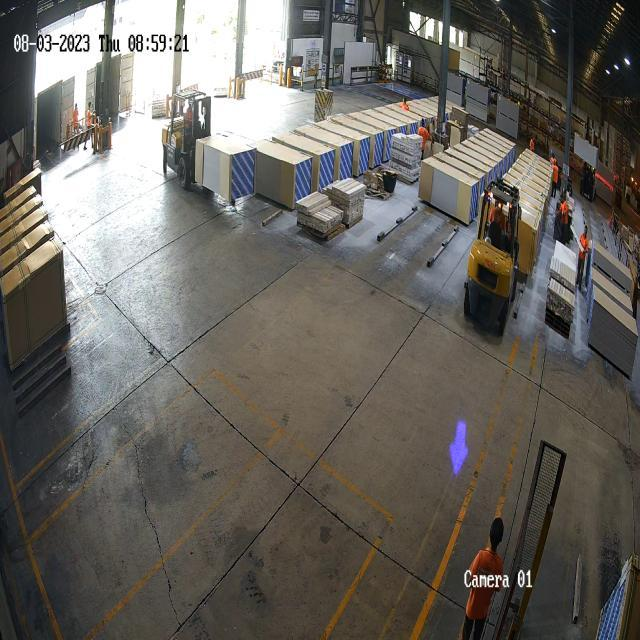driver: (490, 199, 508, 238), (185, 100, 192, 130)
forklift: (463, 172, 521, 346), (159, 82, 212, 195)
person: (459, 510, 510, 640), (576, 224, 589, 294), (557, 191, 570, 243), (419, 120, 430, 154), (86, 100, 94, 126), (553, 162, 559, 195), (72, 103, 78, 129)
